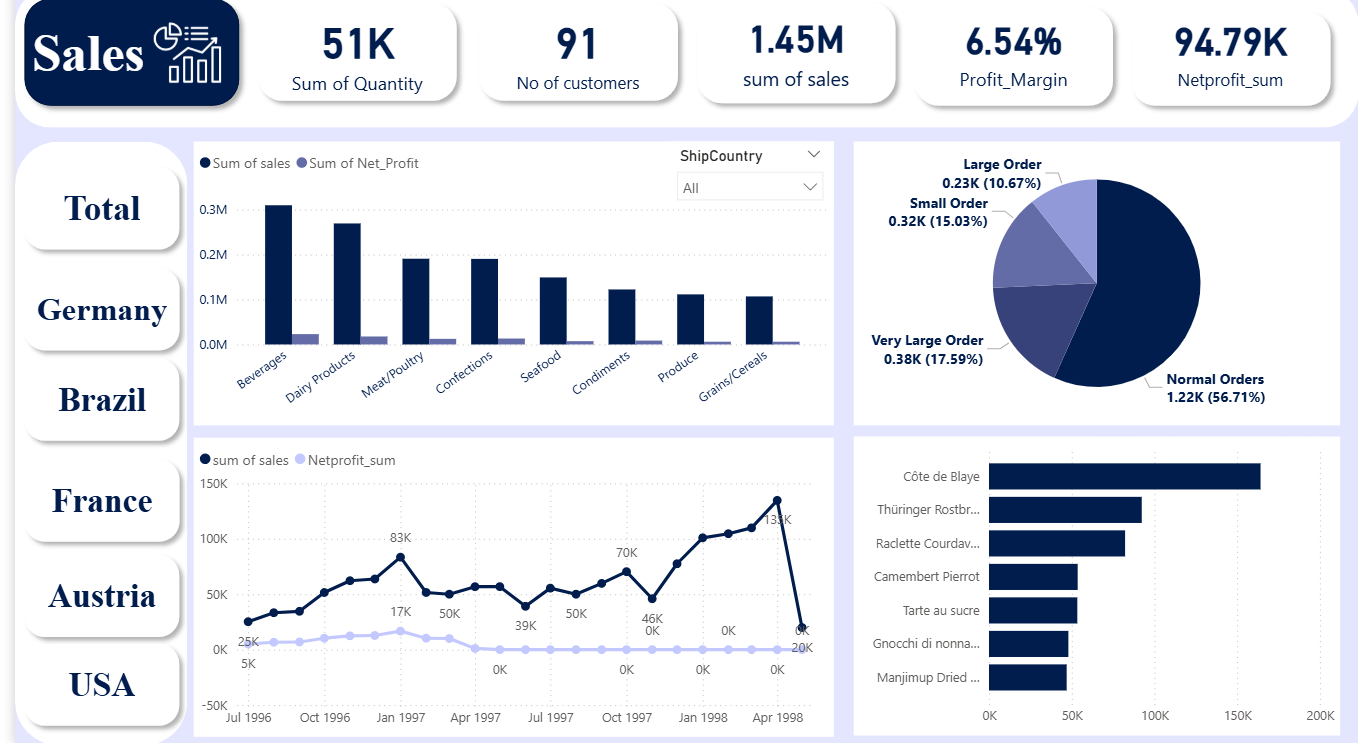

Layout of this report page (visuals, bound fields, positions):
{"tool":"powerbi","page":{"name":"Page 1","canvas":[1280,720],"ordinal":0},"visuals":[{"type":"shape","box":[0,0,1279.8,132.1],"z":0},{"type":"shape","box":[0,0,222.6,120.2],"z":1000},{"type":"image","box":[121.4,27.4,85.7,66.7],"z":2000},{"type":"shape","box":[0,145.2,164.3,575],"z":3000},{"type":"shape","box":[0,160.7,165.5,96.4],"z":4000},{"type":"shape","box":[222.6,4.8,207.1,110.7],"z":5000},{"type":"shape","box":[640.5,3.6,207.1,114.3],"z":6000},{"type":"shape","box":[433.3,4.8,207.1,110.7],"z":7000},{"type":"shape","box":[847.6,8.3,207.1,111.9],"z":8000},{"type":"shape","box":[1054.8,13.1,207.1,107.1],"z":9000},{"type":"card","fields":{"Values":["Key Measure.Sum of Quantity"]},"box":[247.6,13.1,157.1,92.9],"z":10000},{"type":"card","fields":{"Values":["Key Measure.No of customers"]},"box":[469.1,13.1,134.5,90.5],"z":11000},{"type":"card","fields":{"Values":["Key Measure.sum of sales"]},"box":[673.8,10.7,140.5,92.9],"z":12000},{"type":"card","fields":{"Values":["Key Measure.Profit_Margin"]},"box":[881,8.3,140.5,98.8],"z":13000},{"type":"card","fields":{"Values":["Key Measure.Netprofit_sum"]},"box":[1086.9,10.7,141.7,94],"z":14000},{"type":"lineChart","fields":{"Y":["Key Measure.sum of sales","Key Measure.Netprofit_sum"],"Category":["Calendar.Date.Variation.Date Hierarchy.Year","Calendar.Date.Variation.Date Hierarchy.Month"]},"box":[170.2,427.4,609.5,284.5],"z":15000},{"type":"pieChart","fields":{"Category":["OrdersDetails.Sales_Clusters"],"Y":["CountNonNull(OrdersDetails.OrderID)"]},"box":[798.8,145.2,463.1,270.2],"z":16000},{"type":"barChart","fields":{"Category":["products.ProductName"],"Y":["Sum(OrdersDetails.sales)"]},"box":[798.8,426.2,463.1,284.5],"z":17000},{"type":"clusteredColumnChart","fields":{"Category":["Categories.CategoryName"],"Y":["Sum(OrdersDetails.sales)","Sum(OrdersDetails.Net_Profit)"]},"box":[170.2,145.2,609.5,270.2],"z":18000},{"type":"shape","box":[0,257,165.7,96.1],"z":19000},{"type":"shape","box":[0,529.8,165.5,96.4],"z":20000},{"type":"shape","box":[0,342.9,165.5,96.4],"z":21000},{"type":"shape","box":[0,439.5,165.7,96.1],"z":22000},{"type":"shape","box":[0,614.3,165.5,96.4],"z":23000},{"type":"slicer","fields":{"Values":["Orders.ShipCountry"]},"box":[620.2,145.2,159.5,61.9],"z":25000}]}

Visuals, with their boxes in screenshot pixels (x1, y1, x2, y2), scaled from the page's 1280x720 canvas onto the 1358x743 screenshot:
shape: 0/0/1357/136
shape: 0/0/236/124
image: 129/28/220/97
shape: 0/150/174/742
shape: 0/166/176/265
shape: 236/5/456/119
shape: 680/4/899/122
shape: 460/5/679/119
shape: 899/9/1119/124
shape: 1119/14/1339/124
card - Key Measure.Sum of Quantity: 263/14/429/109
card - Key Measure.No of customers: 498/14/640/107
card - Key Measure.sum of sales: 715/11/864/107
card - Key Measure.Profit_Margin: 935/9/1084/111
card - Key Measure.Netprofit_sum: 1153/11/1303/108
lineChart - Key Measure.sum of sales x Key Measure.Netprofit_sum: 181/441/827/735
pieChart - OrdersDetails.Sales_Clusters x CountNonNull(OrdersDetails.OrderID): 847/150/1339/429
barChart - products.ProductName x Sum(OrdersDetails.sales): 847/440/1339/733
clusteredColumnChart - Categories.CategoryName x Sum(OrdersDetails.sales): 181/150/827/429
shape: 0/265/176/364
shape: 0/547/176/646
shape: 0/354/176/453
shape: 0/454/176/553
shape: 0/634/176/733
slicer - Orders.ShipCountry: 658/150/827/214
